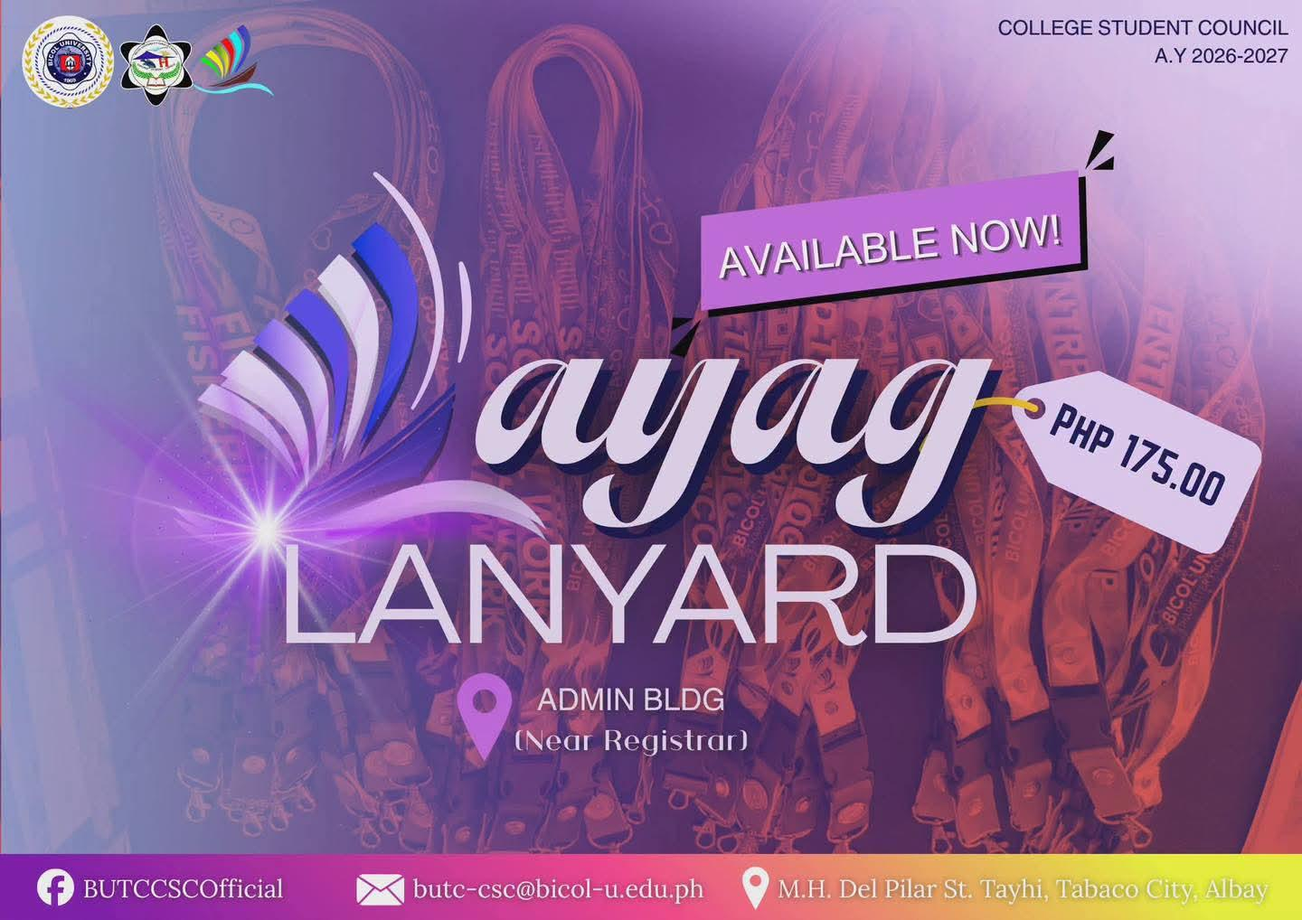embellishment: (180, 157, 549, 558), (700, 170, 1090, 312), (972, 371, 1263, 553)
logo: (16, 6, 122, 111), (194, 13, 281, 108), (445, 664, 523, 766), (115, 15, 197, 111), (352, 866, 409, 912), (32, 861, 81, 910), (738, 860, 777, 915)
text: (155, 136, 1015, 532), (258, 533, 992, 658), (711, 194, 1072, 285), (1035, 387, 1245, 522), (506, 675, 753, 762), (990, 11, 1302, 71), (774, 871, 1280, 905), (409, 873, 712, 905), (81, 871, 291, 907)
underlay: (0, 0, 1301, 919)
